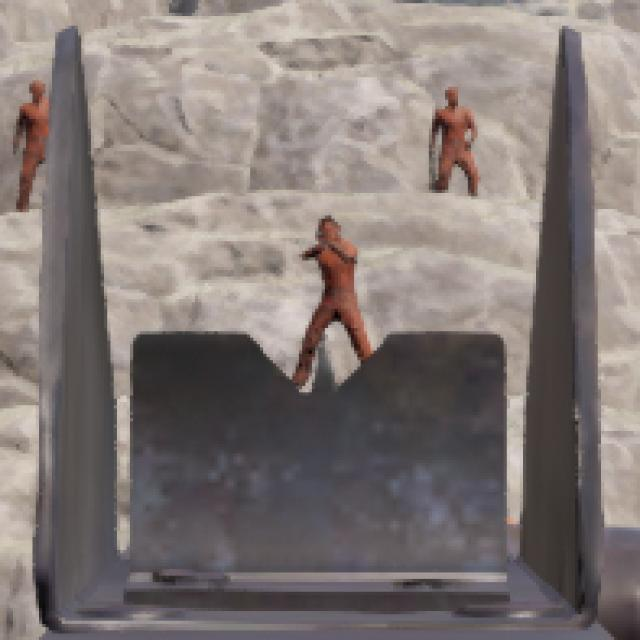Player: (296, 217, 369, 361), (431, 88, 478, 196), (12, 80, 49, 209)
